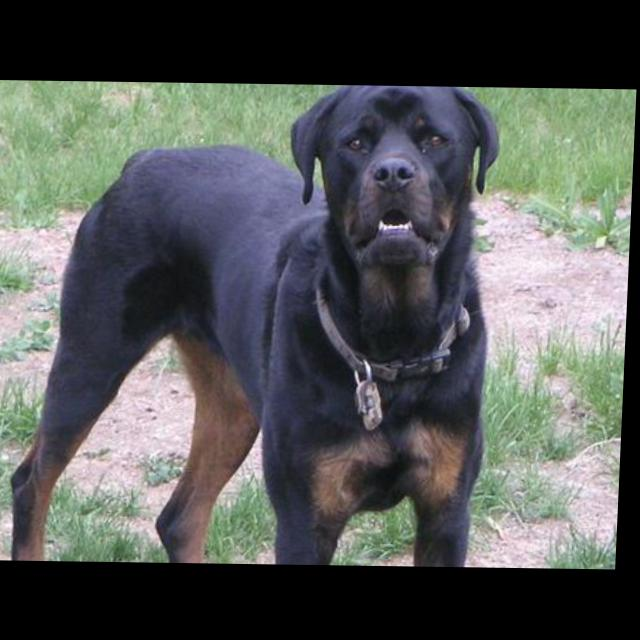rottweiler: (11, 81, 505, 567)
